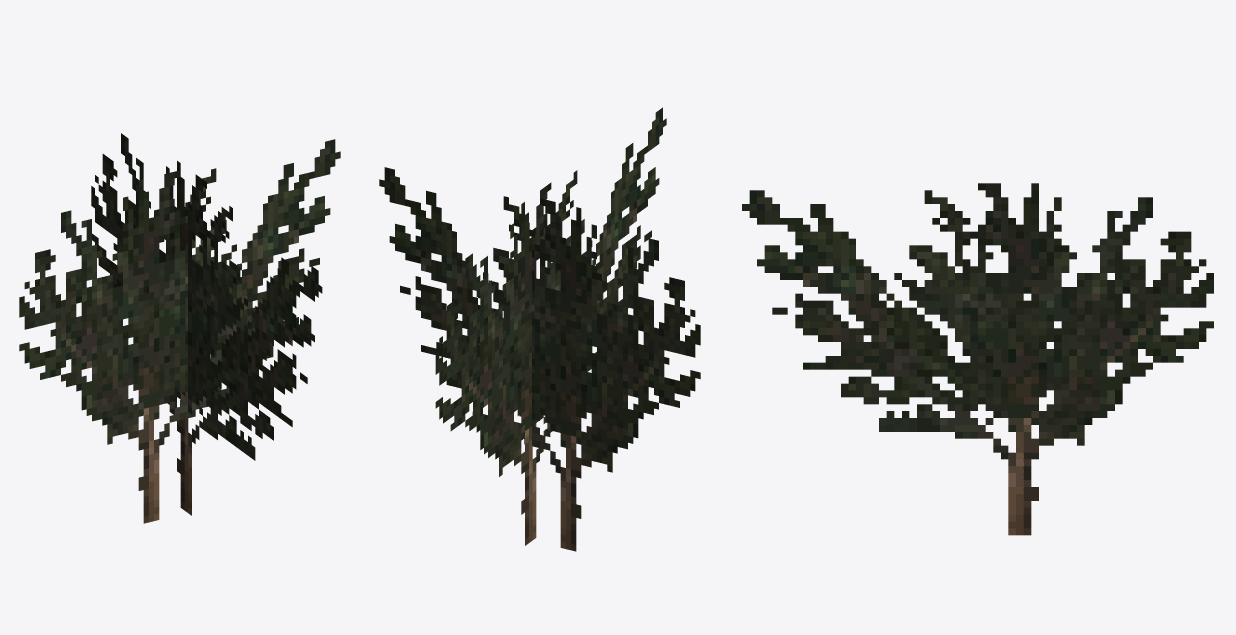
File: mtns_shrb_evergreen_a1_l3.fbx
The picture shows the model from 3 angles, left to right: view 1: azimuth 30°, elevation 25°; view 2: azimuth 150°, elevation 25°; view 3: azimuth 270°, elevation 25°; orthographic projection. The views are drawn at different scales.
Parts seen in each view (by area): view 1: mesh_node; view 2: mesh_node; view 3: mesh_node.
Boxes of the visible parts, box(x1,y1,x2,y2) form: mesh_node: box(19, 133, 340, 523); mesh_node: box(379, 107, 700, 551); mesh_node: box(742, 183, 1213, 535).
Size of the model in its own units: 3.44 by 4.29 by 4.29.
